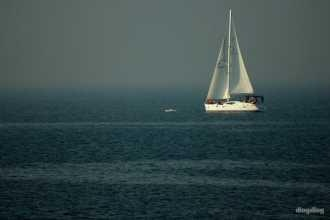fanchuan: (202, 10, 266, 115)
